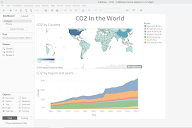

This screenshot's page, from the dashboard's own definition file:
{"tool":"tableau","page":{"name":"Dashboard 1","canvas":[1000,800],"ordinal":0},"visuals":[{"type":"text","box":[8,8,984,49]},{"type":"worksheet","title":"Sheet 1","mark":"Automatic","box":[8,57,824,367.5]},{"type":"legend","title":"Sheet 2","param":"[federated.06h2np70jnoshh15alyw10orek8f].[none:Region:nk]","box":[832,57,160,177]},{"type":"legend","title":"Sheet 1","param":"[federated.06h2np70jnoshh15alyw10orek8f].[sum:CO2 (kt):qk]","box":[18,336,140,43]},{"type":"worksheet","title":"Sheet 2","mark":"Area","rows":["CO2 (kt)"],"cols":["Year"],"box":[8,424.5,824,367.5]}]}

Visuals, with their boxes on the page's 1000x800 design canvas (x1, y1, x2, y2). These are canvas units, not pixel positions in the 192x128 screenshot, which may show the page scaled, cropped or inside an application window:
text: 8/8/992/57
"Sheet 1" worksheet: 8/57/832/424
"Sheet 2" legend: 832/57/992/234
"Sheet 1" legend: 18/336/158/379
"Sheet 2" worksheet (Area marks): 8/424/832/792
